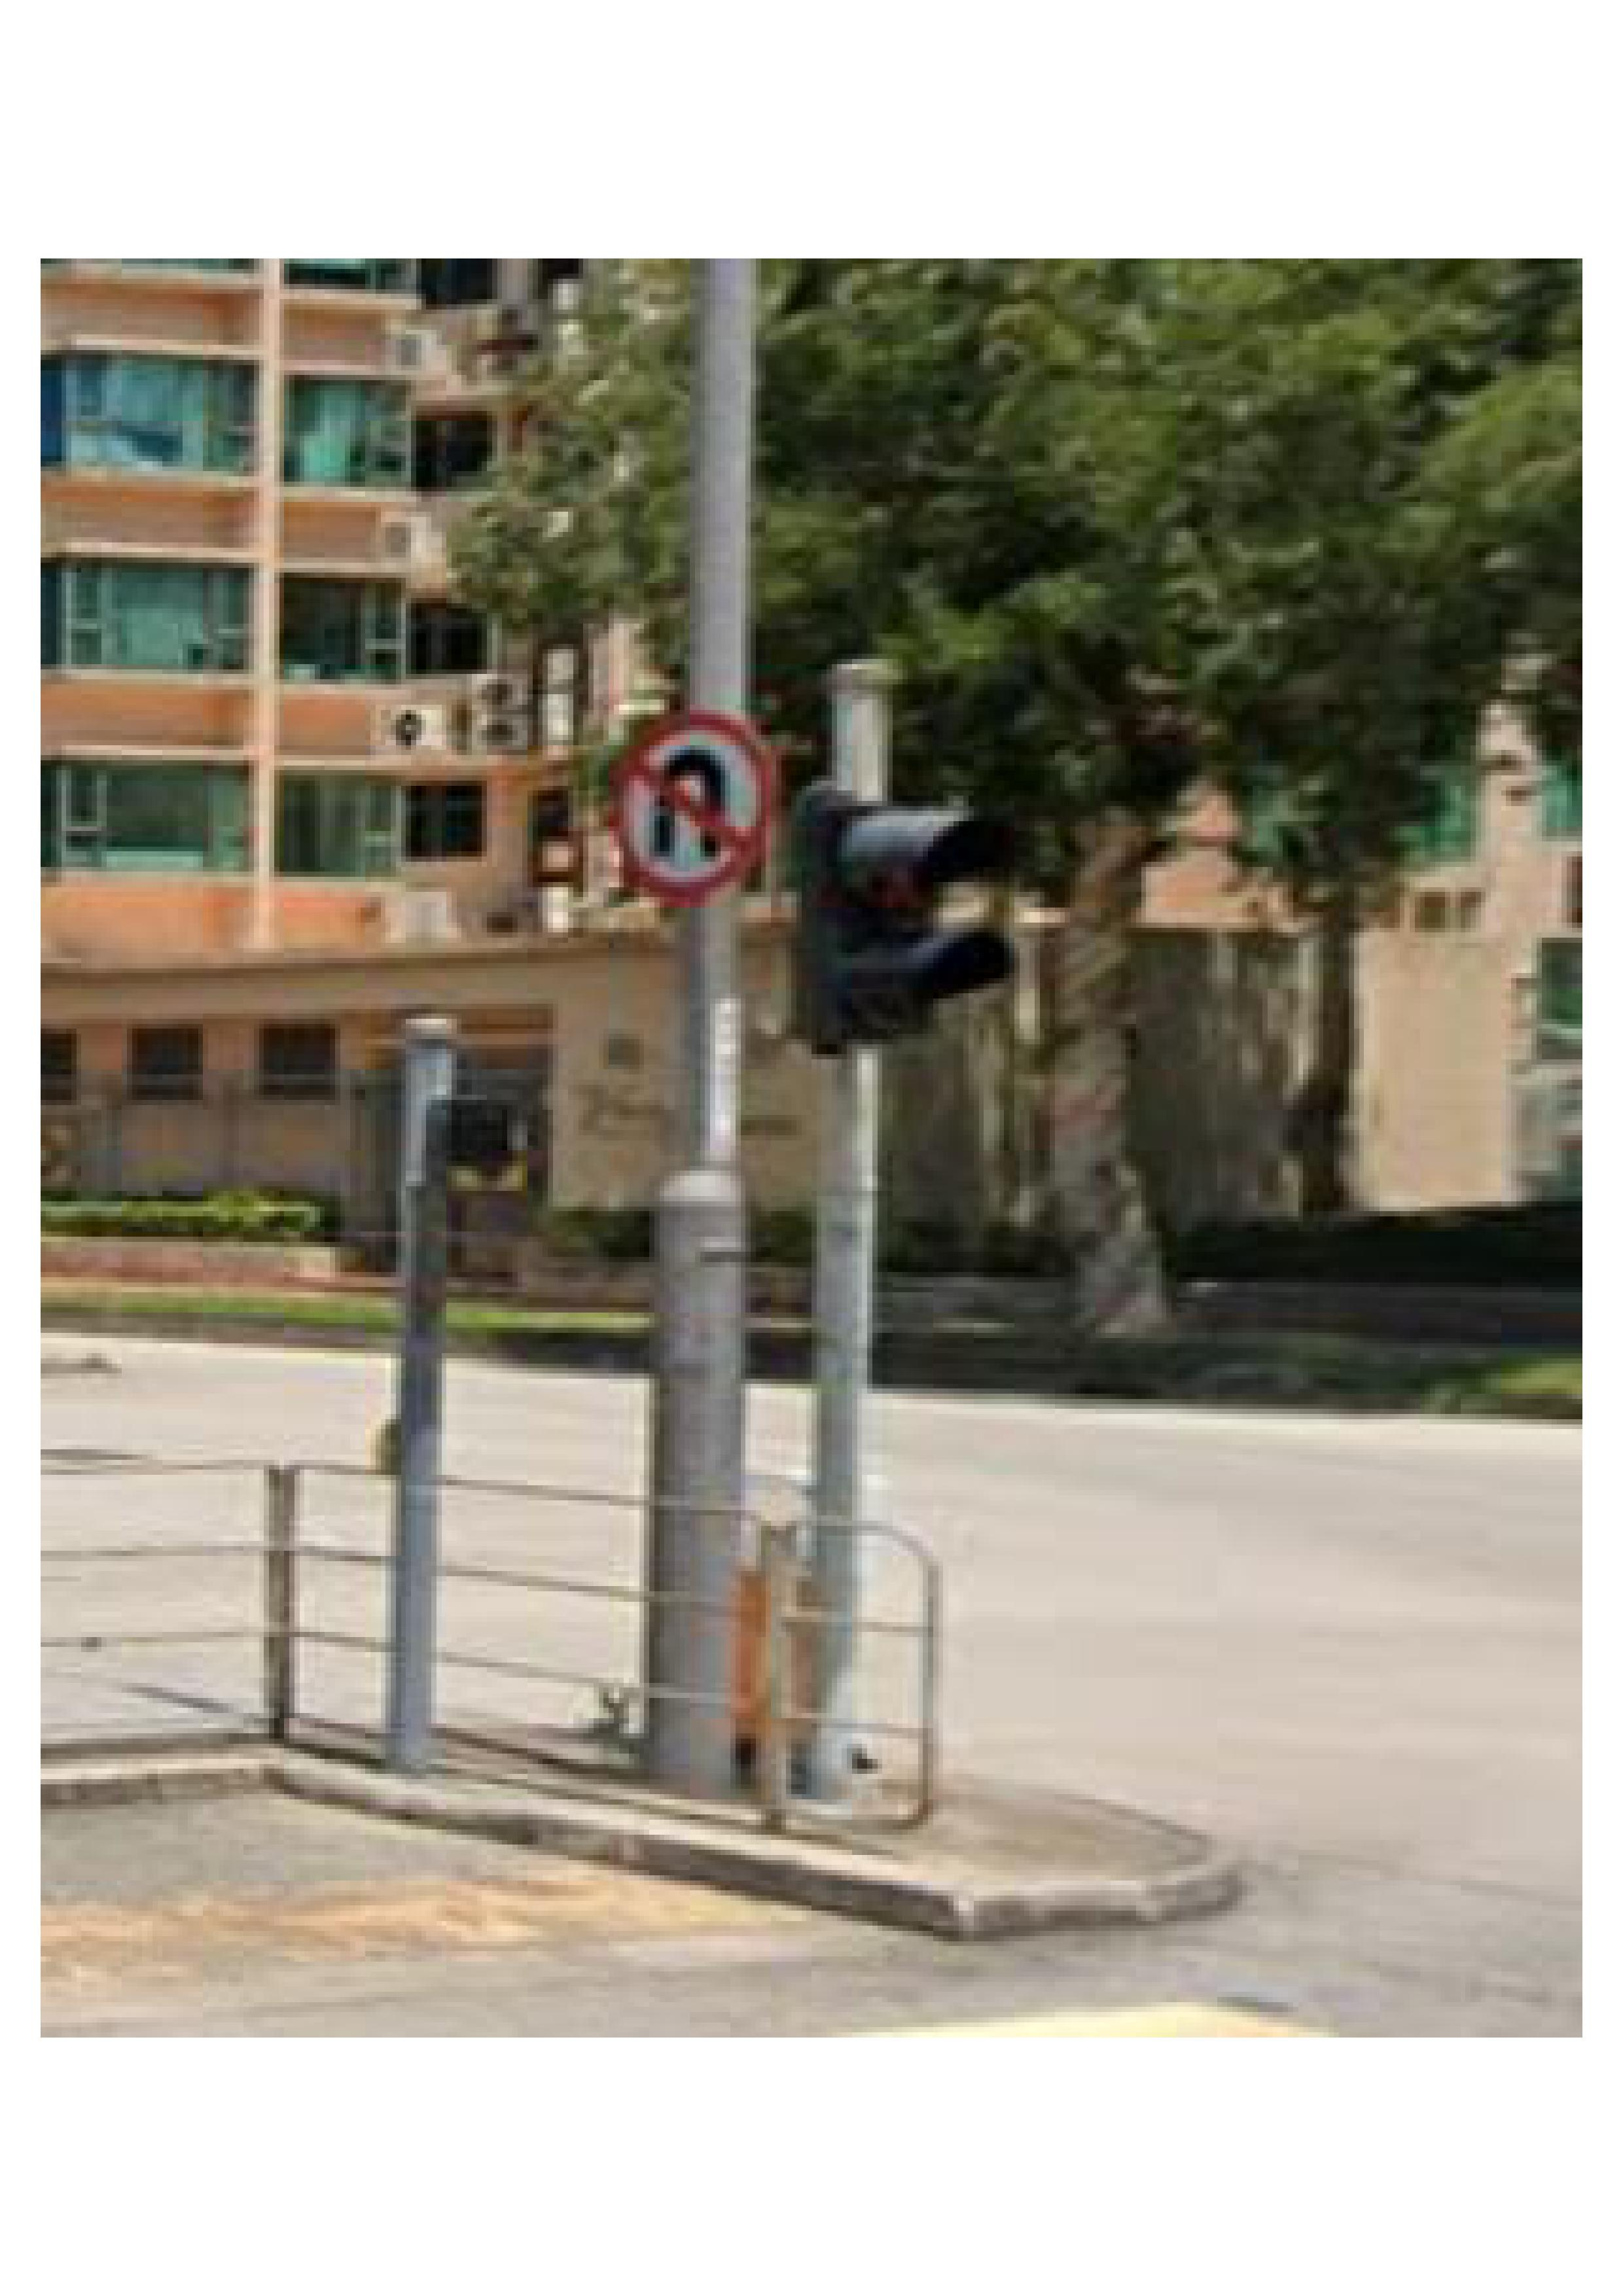No Uturn: (588, 697, 783, 900)
